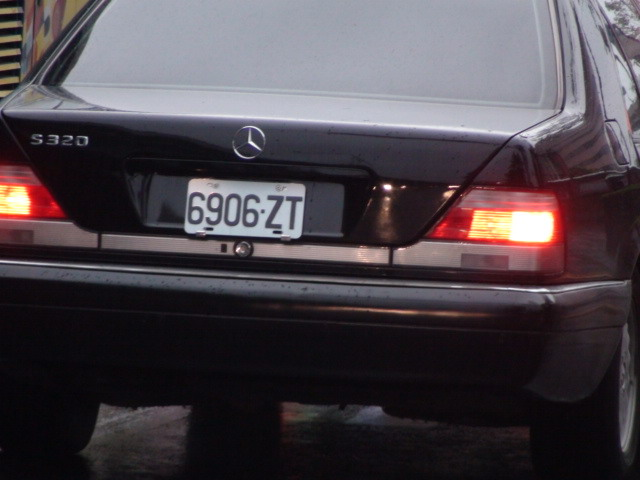plate: (180, 174, 305, 243)
